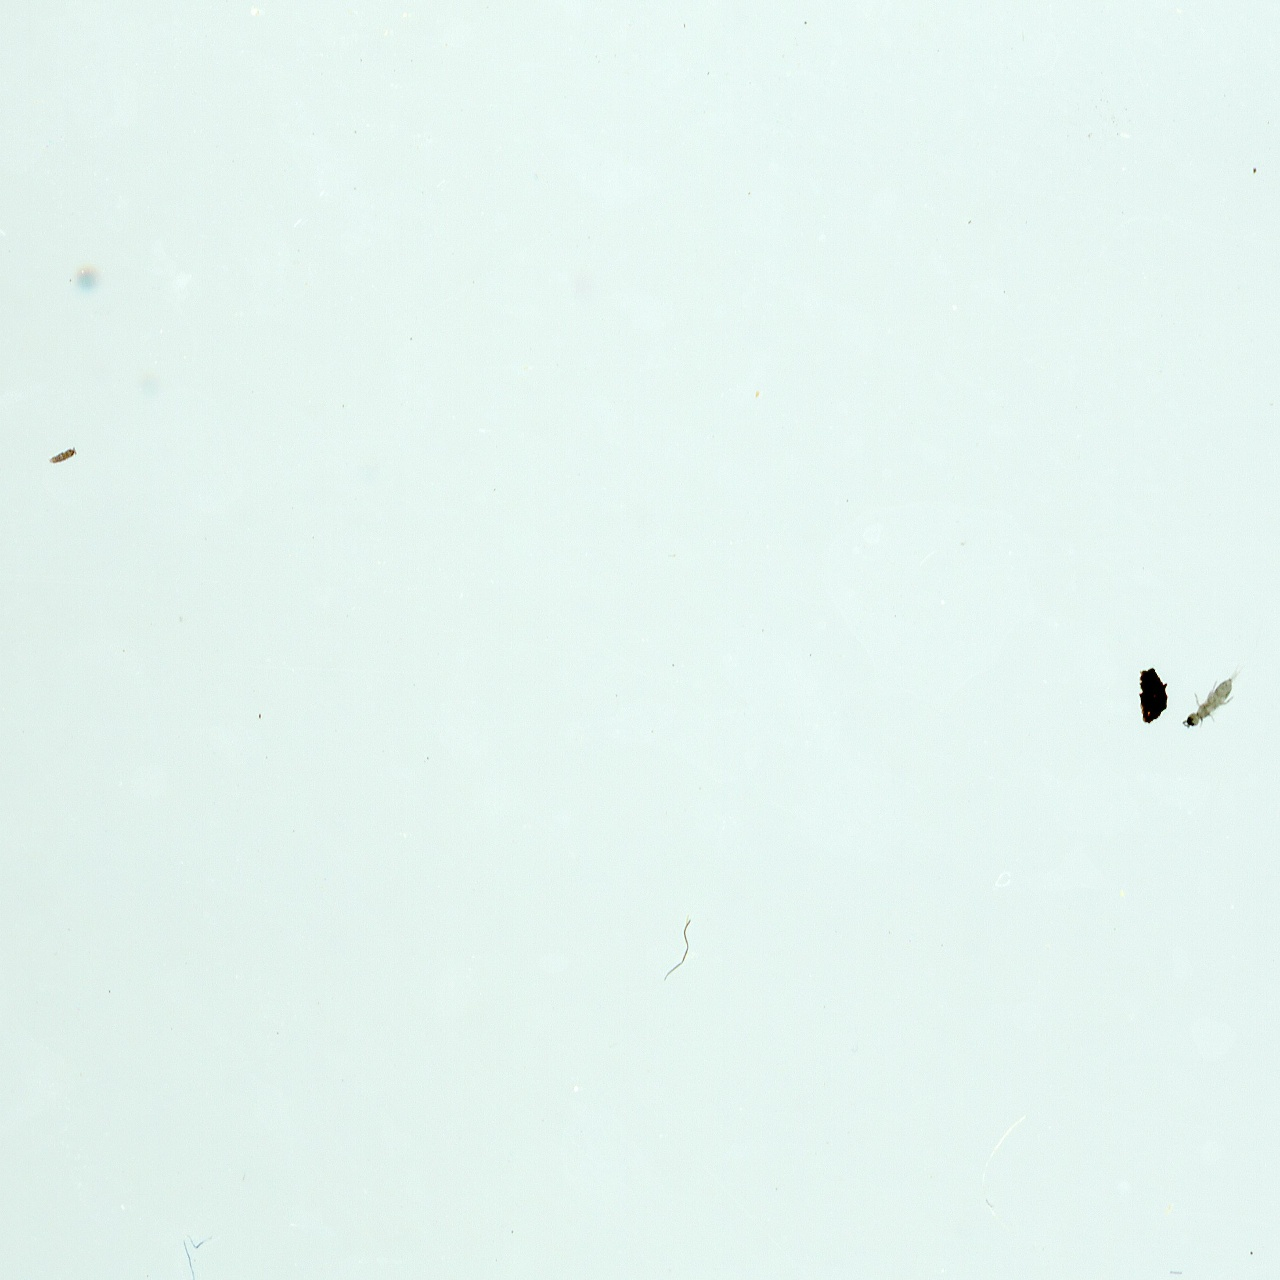arthropod: (1171, 647, 1259, 743)
